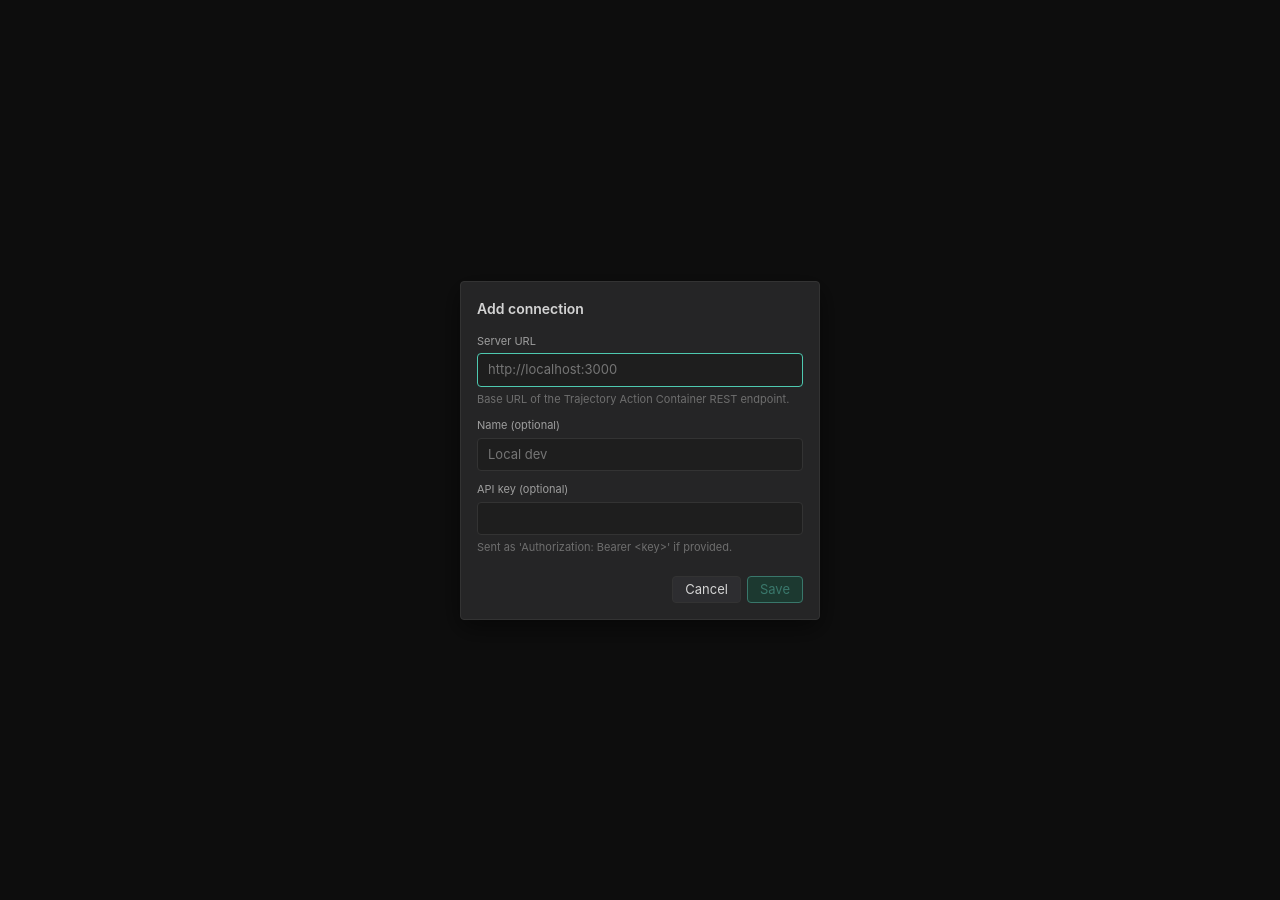
ConnectionModal — add mode › shows a validation error for an unparseable URL
Type "not-a-url" into the field labelled "Server URL". click: [640, 370]
box: [477, 353, 803, 386]
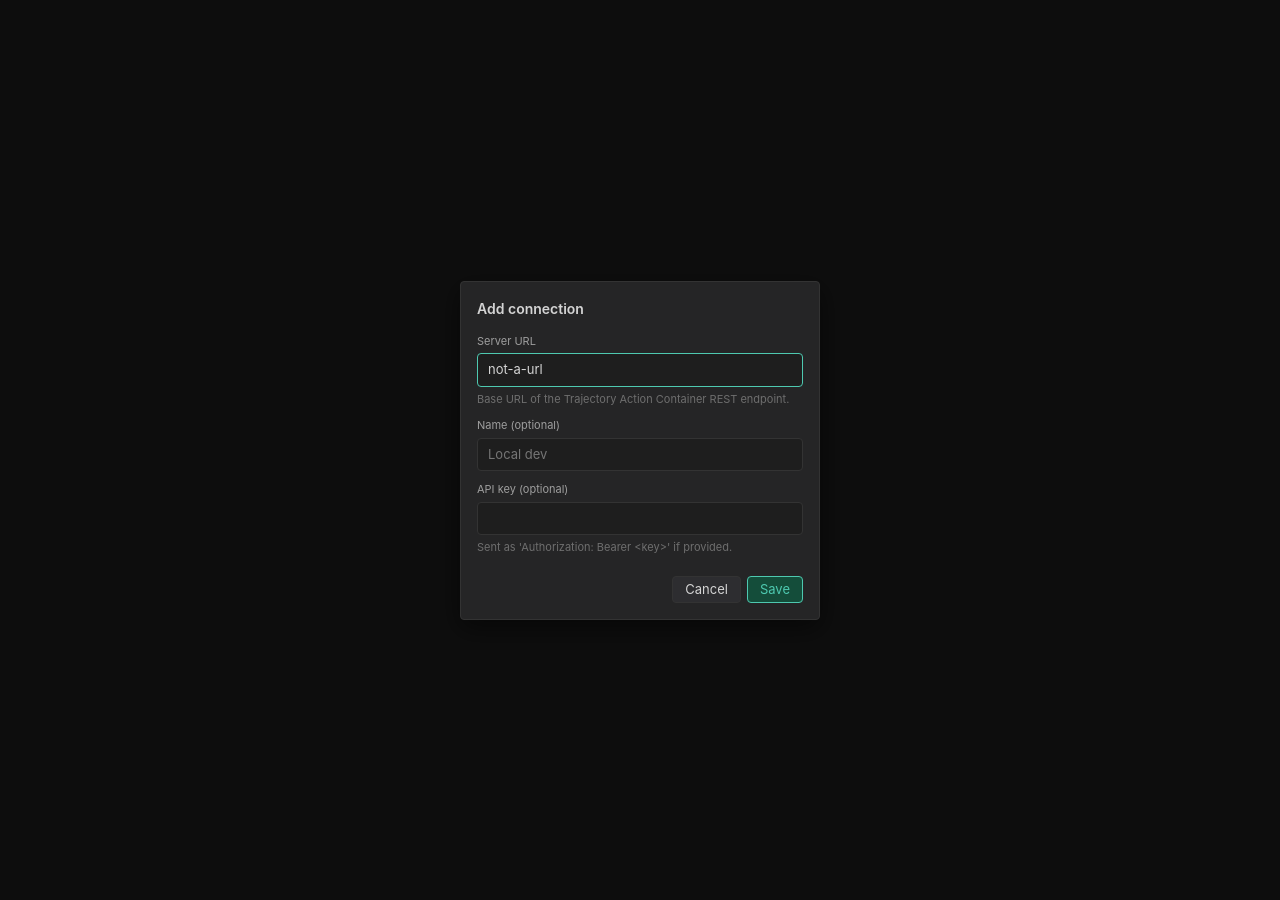
Click the button "Save". click: [775, 589]
box: [747, 576, 803, 602]
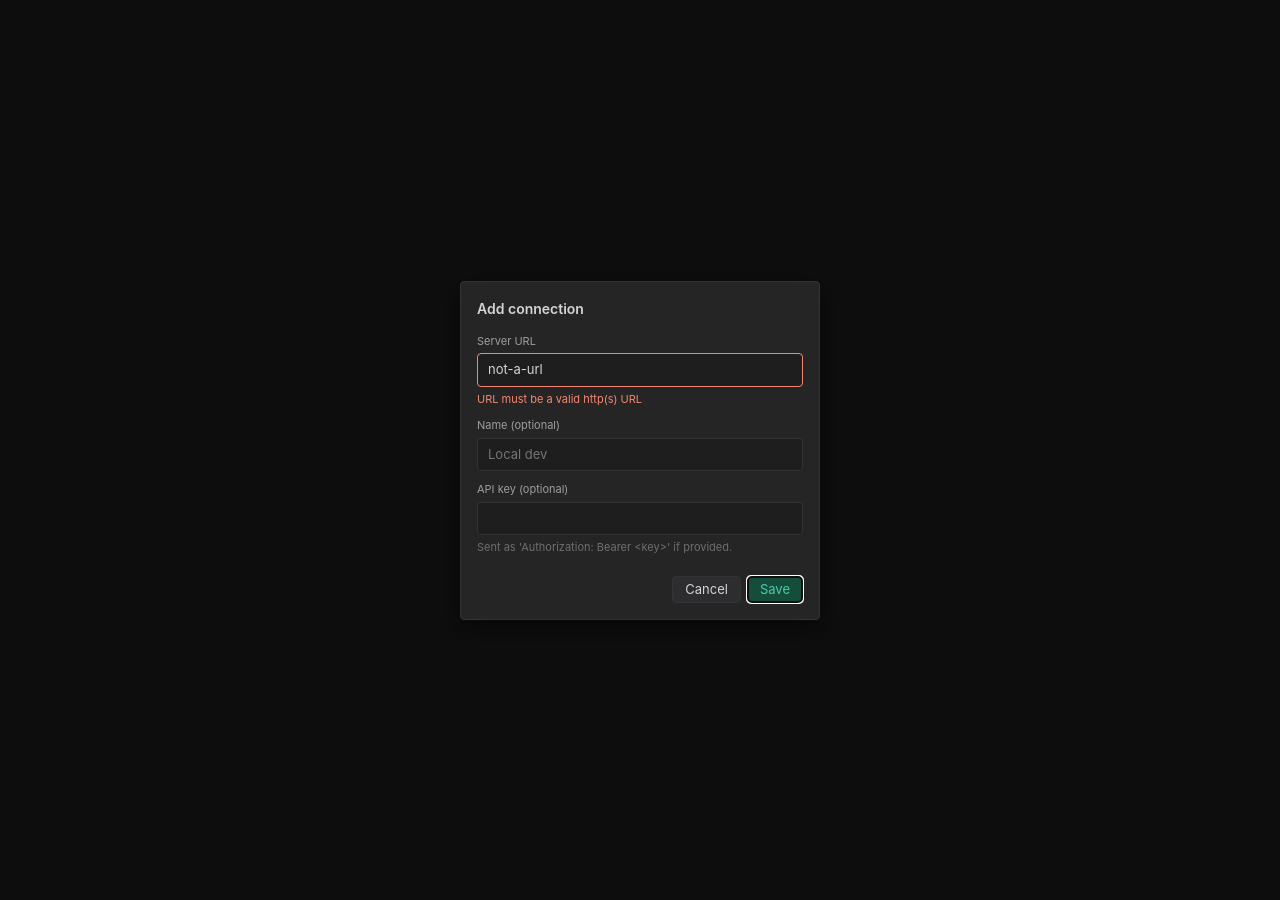
Result: the text "URL must be a valid http(s) URL" is shown at [477, 392, 642, 406]
